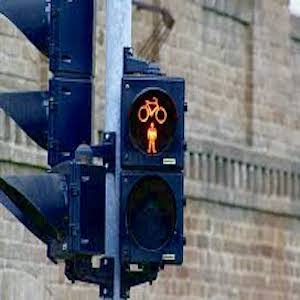red: (137, 91, 172, 157)
